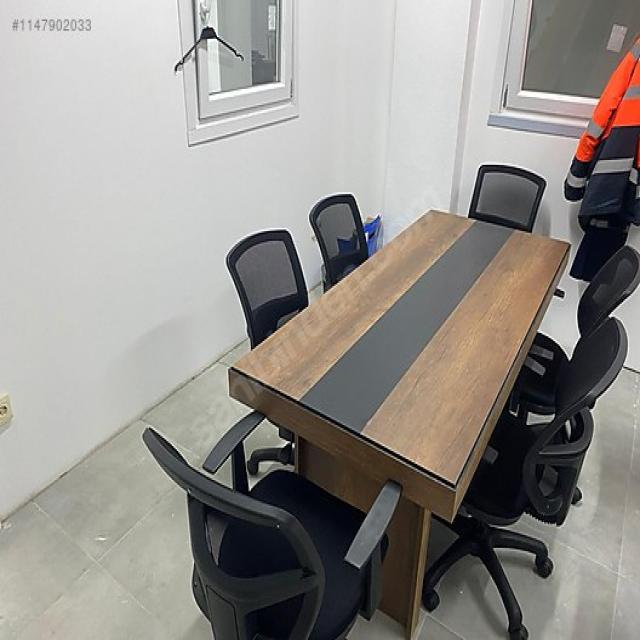chair: (424, 314, 632, 638), (140, 412, 402, 639), (224, 228, 309, 473), (308, 192, 368, 292), (466, 162, 546, 232)
